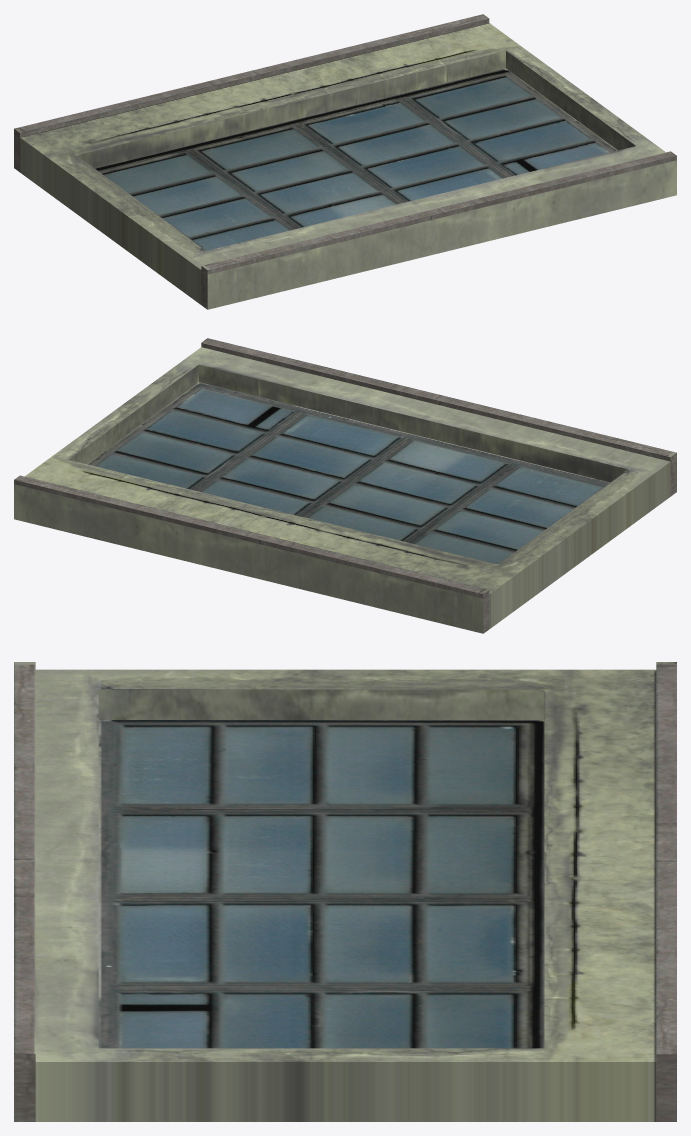
File: Window_Large04.FBX
3 views of the same model, one above another, from view 1: azimuth 30°, elevation 25°; view 2: azimuth 150°, elevation 25°; view 3: azimuth 270°, elevation 25° (orthographic). The views are drawn at different scales.
Visible parts, largest first — view 1: Window_Large04; view 2: Window_Large04; view 3: Window_Large04.
Part boxes in pixels (box(x1,y1,x2,y2)): Window_Large04: box(14, 14, 676, 309); Window_Large04: box(14, 338, 676, 633); Window_Large04: box(14, 662, 676, 1121).
Size of the model in its own units: 448 by 36 by 320.
